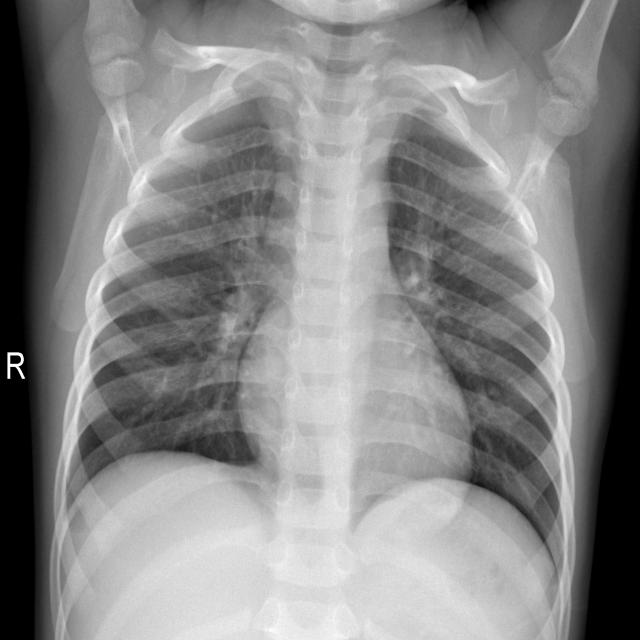normal_lung: (1, 6, 640, 640)
